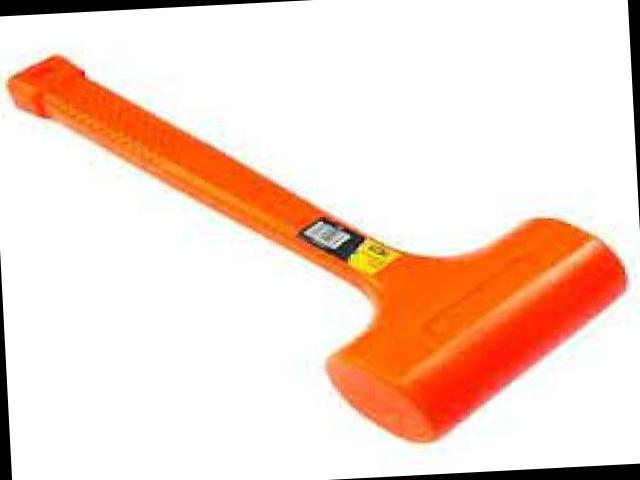hammer: (5, 24, 637, 464)
